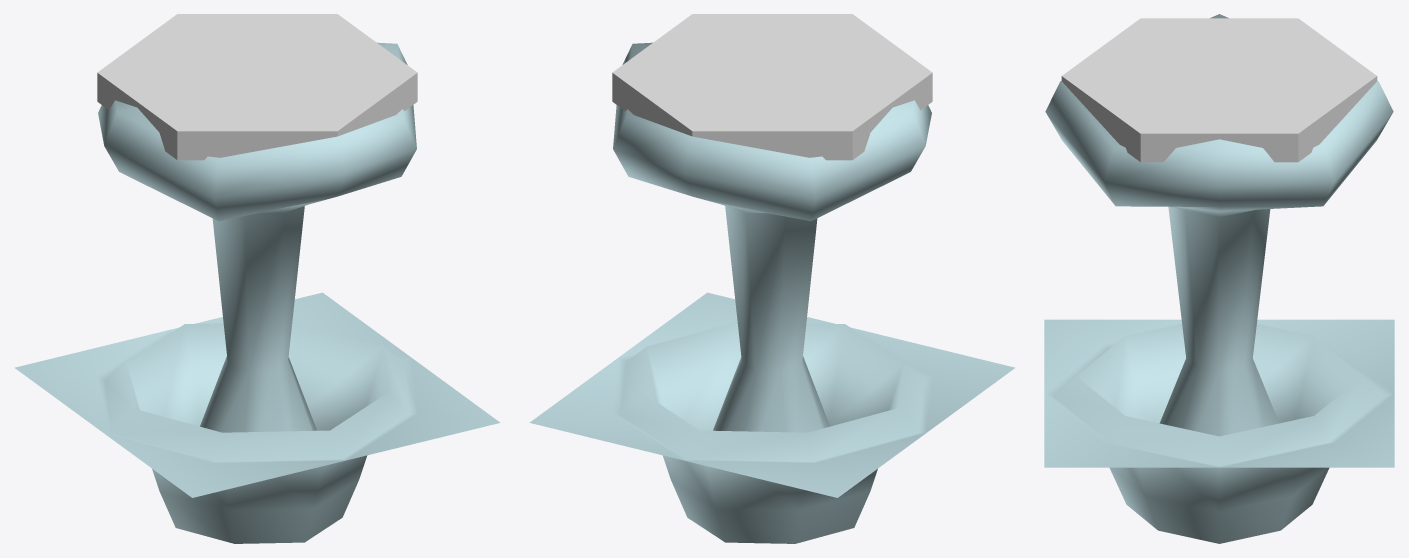
Rendered from WaterGeyser.fbx.
The picture shows the model from 3 angles, left to right: view 1: azimuth 30°, elevation 25°; view 2: azimuth 150°, elevation 25°; view 3: azimuth 270°, elevation 25°; orthographic projection.
Visible parts, largest first — view 1: WaterGeyser_Up_01.001, WaterGeyser_Up.001, Stone.004; view 2: WaterGeyser_Up_01.001, WaterGeyser_Up.001, Stone.004; view 3: WaterGeyser_Up_01.001, WaterGeyser_Up.001, Stone.004.
Part boxes in pixels (x1,y1,x2,y2): WaterGeyser_Up_01.001: [14, 292, 500, 543]; WaterGeyser_Up.001: [98, 42, 416, 432]; Stone.004: [97, 14, 417, 160]; WaterGeyser_Up_01.001: [529, 292, 1015, 543]; WaterGeyser_Up.001: [613, 42, 931, 432]; Stone.004: [612, 14, 932, 160]; WaterGeyser_Up_01.001: [1044, 319, 1394, 543]; WaterGeyser_Up.001: [1045, 14, 1393, 436]; Stone.004: [1061, 18, 1377, 162].
Bounding box in the file's own units: 100 × 135 × 100.
